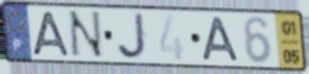4: (157, 12, 188, 63)
6: (242, 14, 275, 67)
A: (30, 9, 73, 58), (201, 15, 242, 63)
J: (115, 12, 151, 62)
N: (66, 9, 107, 60)
